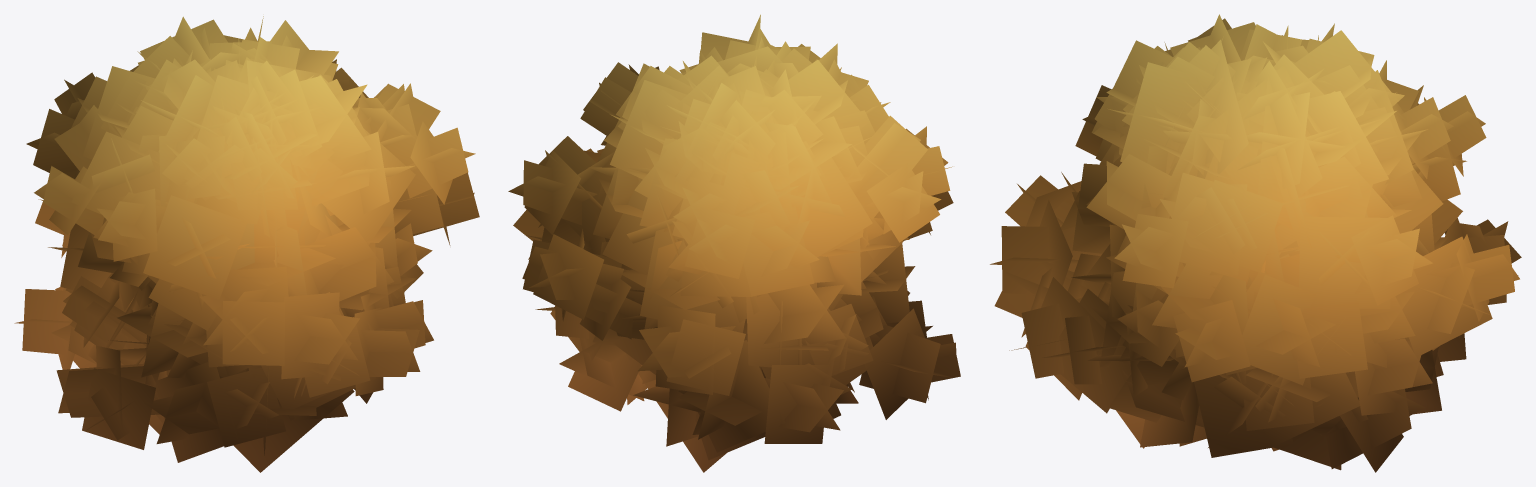
File: q_bush_golden.glb
3 views of the same model, side by side, from view 1: azimuth 30°, elevation 25°; view 2: azimuth 150°, elevation 25°; view 3: azimuth 270°, elevation 25° (orthographic). The views are drawn at different scales.
Visible parts, largest first — view 1: Leaves; view 2: Leaves; view 3: Leaves.
Boxes of the visible parts, x1,y1,x2,y2 form: Leaves: (14,16,479,472); Leaves: (508,14,960,472); Leaves: (990,14,1521,472).
Bounding box in the file's own units: 1.33 × 1.2 × 1.35.
